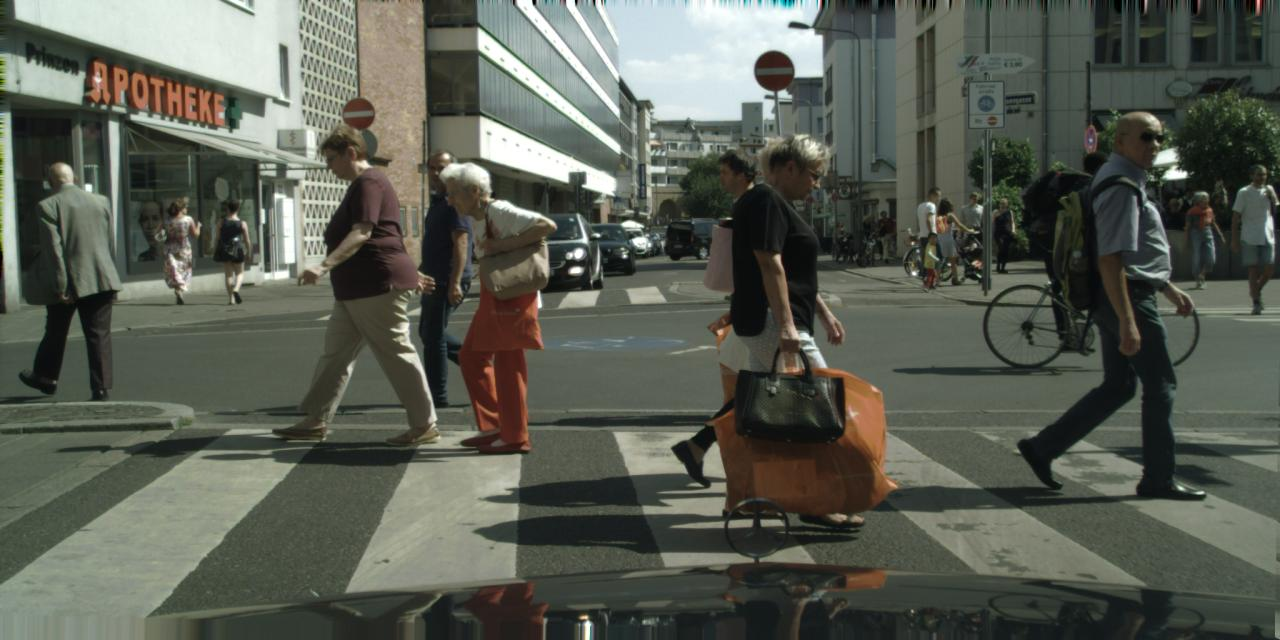ped: (714, 134, 872, 520), (1040, 111, 1198, 495), (692, 135, 838, 492), (284, 124, 414, 442), (423, 161, 543, 456), (701, 147, 819, 434), (400, 148, 506, 405), (19, 161, 115, 397), (1056, 150, 1130, 334), (1229, 163, 1279, 314), (157, 199, 200, 305), (213, 199, 256, 304), (911, 187, 952, 287), (1181, 190, 1221, 289), (928, 198, 963, 286), (959, 192, 990, 270), (1160, 198, 1190, 274), (988, 198, 1018, 273), (1174, 188, 1199, 251), (921, 232, 943, 288), (875, 210, 896, 262), (874, 217, 891, 260), (857, 215, 874, 257), (863, 216, 879, 255), (832, 221, 847, 256)
